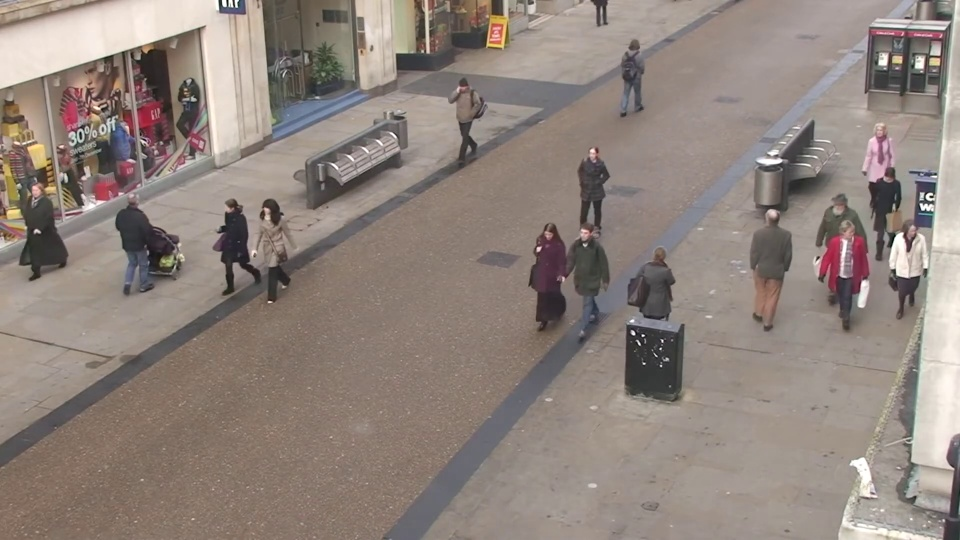pedestrian: (878, 215, 931, 339), (7, 181, 63, 292), (820, 220, 869, 344), (808, 198, 854, 317), (640, 236, 682, 365), (120, 182, 167, 293), (206, 193, 251, 308), (859, 164, 906, 274), (247, 196, 291, 312), (749, 202, 791, 321), (563, 221, 602, 346), (523, 221, 562, 345), (854, 124, 896, 224), (571, 146, 605, 251), (445, 75, 474, 160), (626, 34, 651, 108)
